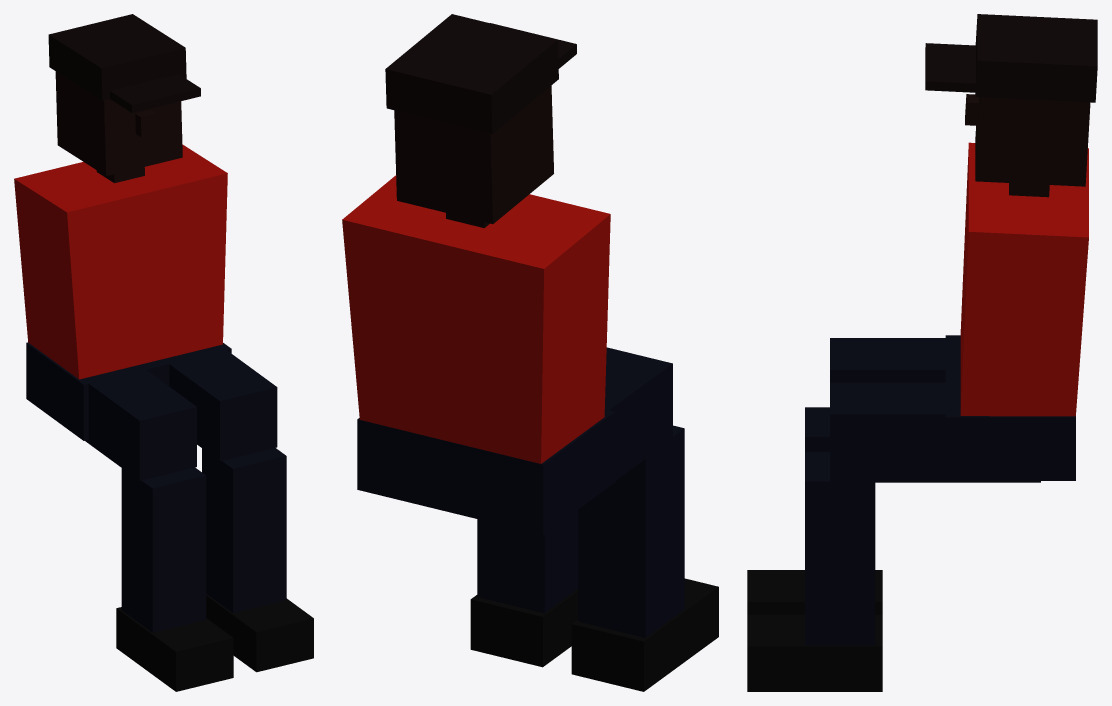
The model's file is espectador_E_cuerpo.obj.
3 views of the same model, side by side, from view 1: azimuth 30°, elevation 25°; view 2: azimuth 150°, elevation 25°; view 3: azimuth 270°, elevation 25° (orthographic). The views are drawn at different scales.
Parts seen in each view (by area): view 1: Espectador_E_cuerpo; view 2: Espectador_E_cuerpo; view 3: Espectador_E_cuerpo.
Boxes of the visible parts, x1,y1,x2,y2 form: Espectador_E_cuerpo: (14,14,313,691); Espectador_E_cuerpo: (342,14,718,691); Espectador_E_cuerpo: (747,14,1097,691).
Bounding box in the file's own units: 0.42 × 1.36 × 0.6983.
